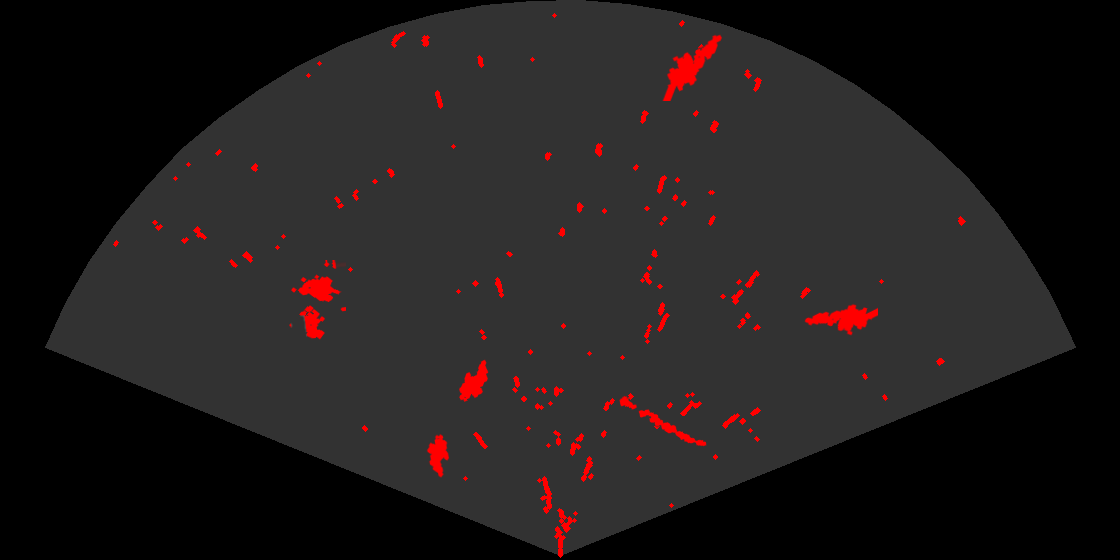AUV: (458, 358, 490, 403), (425, 432, 451, 479)
cage: (288, 260, 346, 341)
chain: (618, 394, 708, 448)
frogman: (661, 33, 724, 101), (803, 302, 878, 337)
